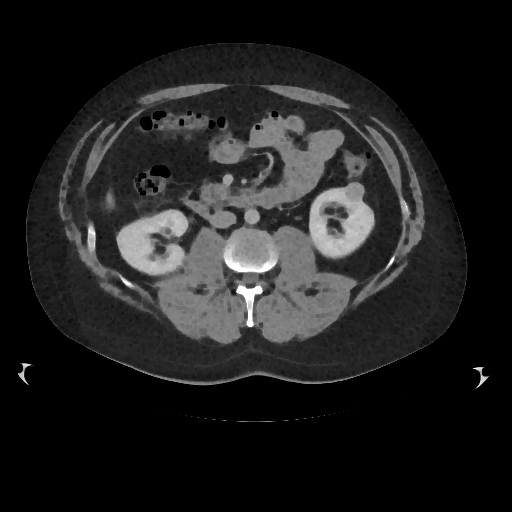Lesion: (342, 179, 367, 205)
